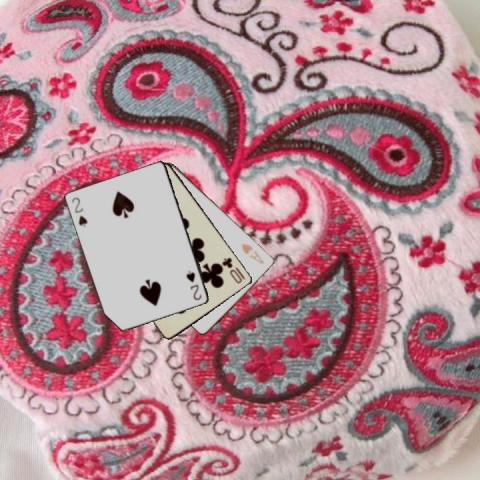10c: (219, 254, 247, 284)
2s: (68, 194, 88, 229), (184, 268, 203, 302)
Ah: (239, 240, 265, 265)
